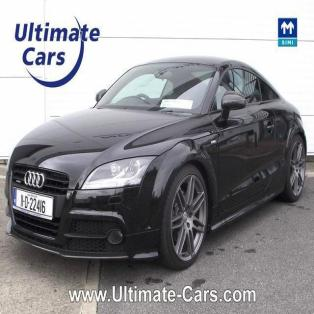Auto: (1, 52, 313, 268)
